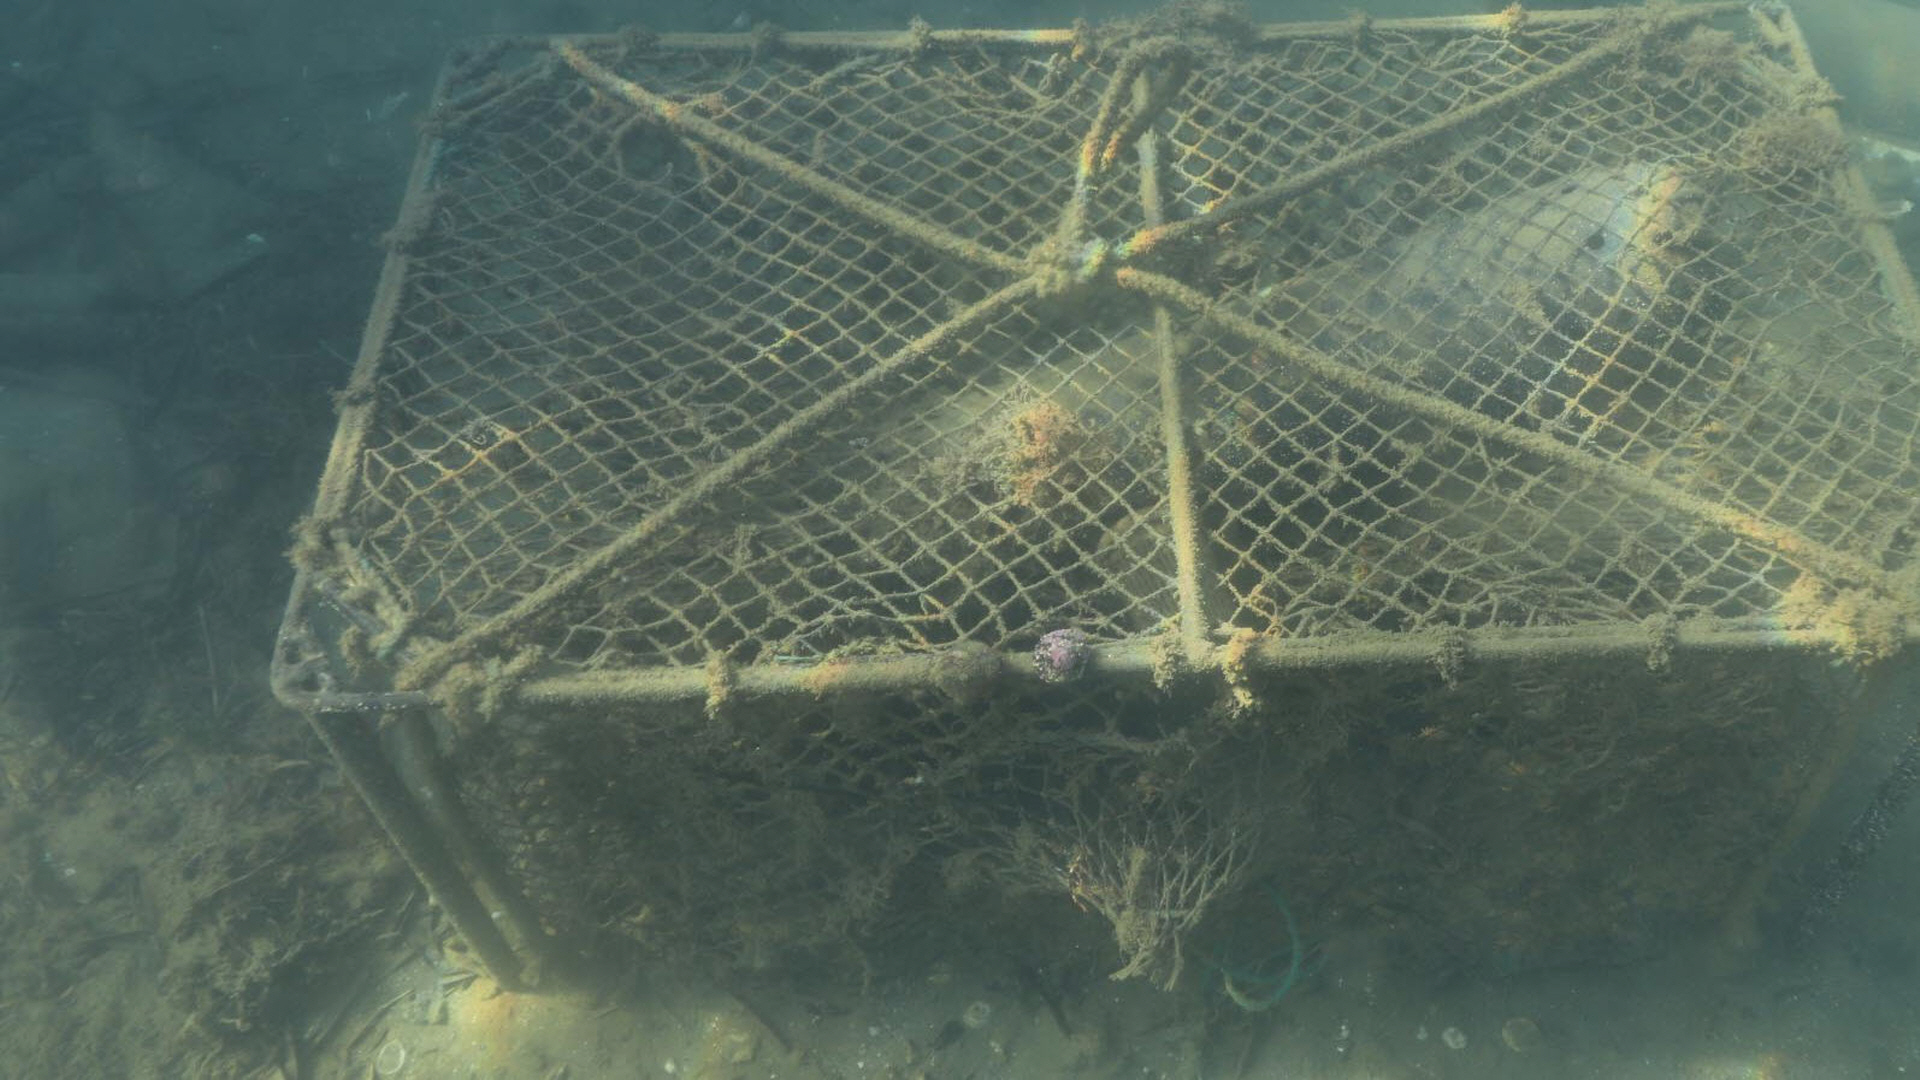rectangular fish trap: (266, 0, 1920, 988)
